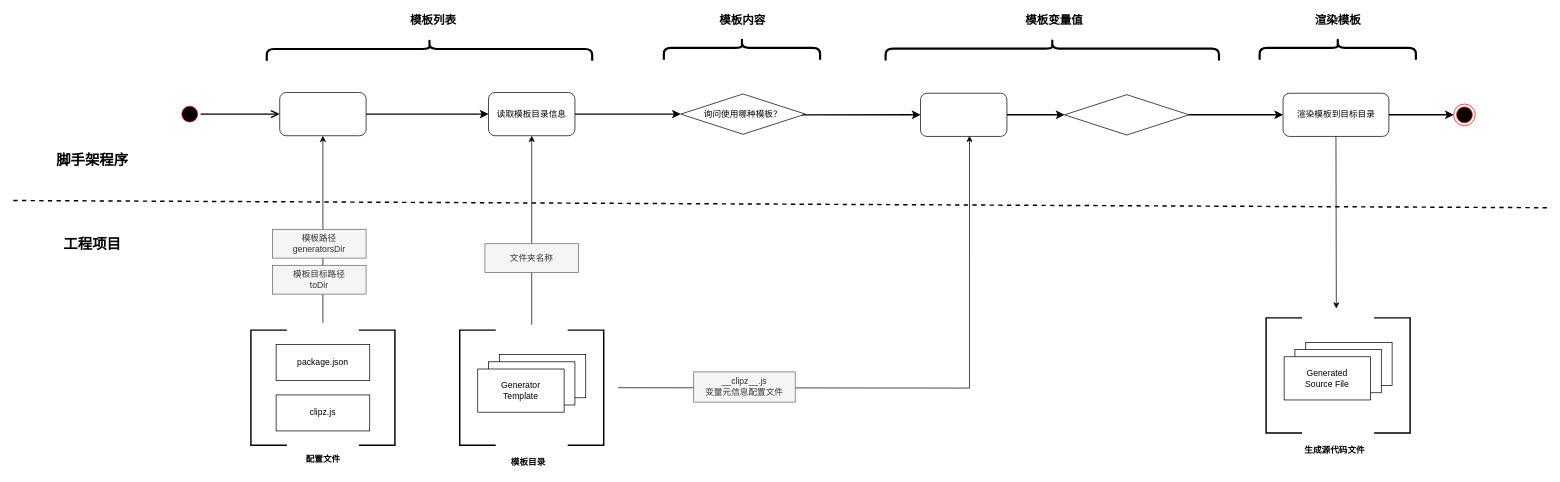
Image size: 1560x482. Some labels were removed from this diagram. Here are the shapes that lost their labels. From the top down, the box of each, then its label:
(279, 92, 366, 136): 读取配置
(920, 93, 1007, 136): 读取模板 变量元信息
(1064, 94, 1189, 135): 询问变量值？
